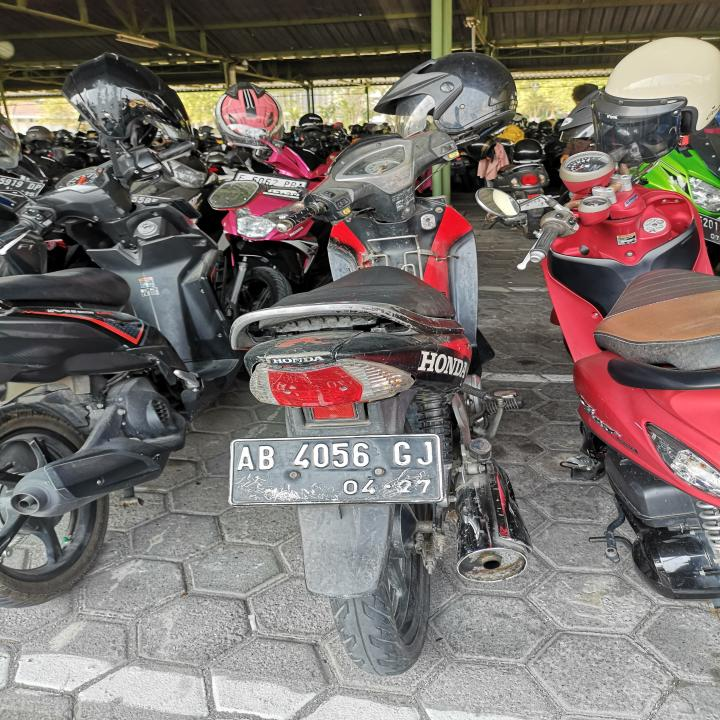plate: (223, 430, 446, 510), (232, 169, 308, 200)
